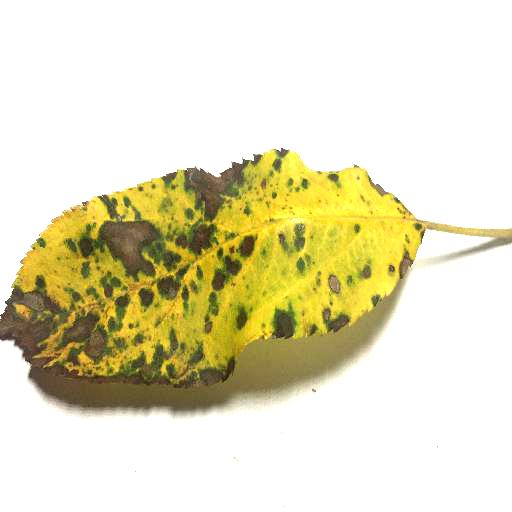Brown_Spot: (1, 142, 323, 412)
